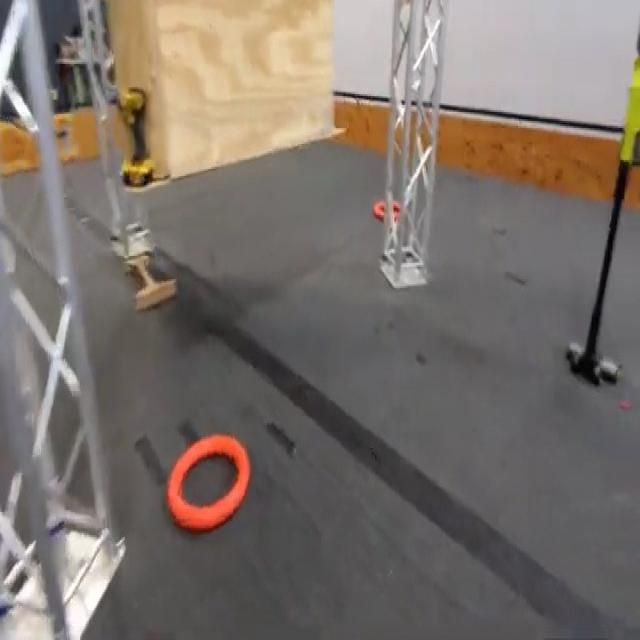note: (166, 437, 250, 532), (372, 198, 406, 220)
